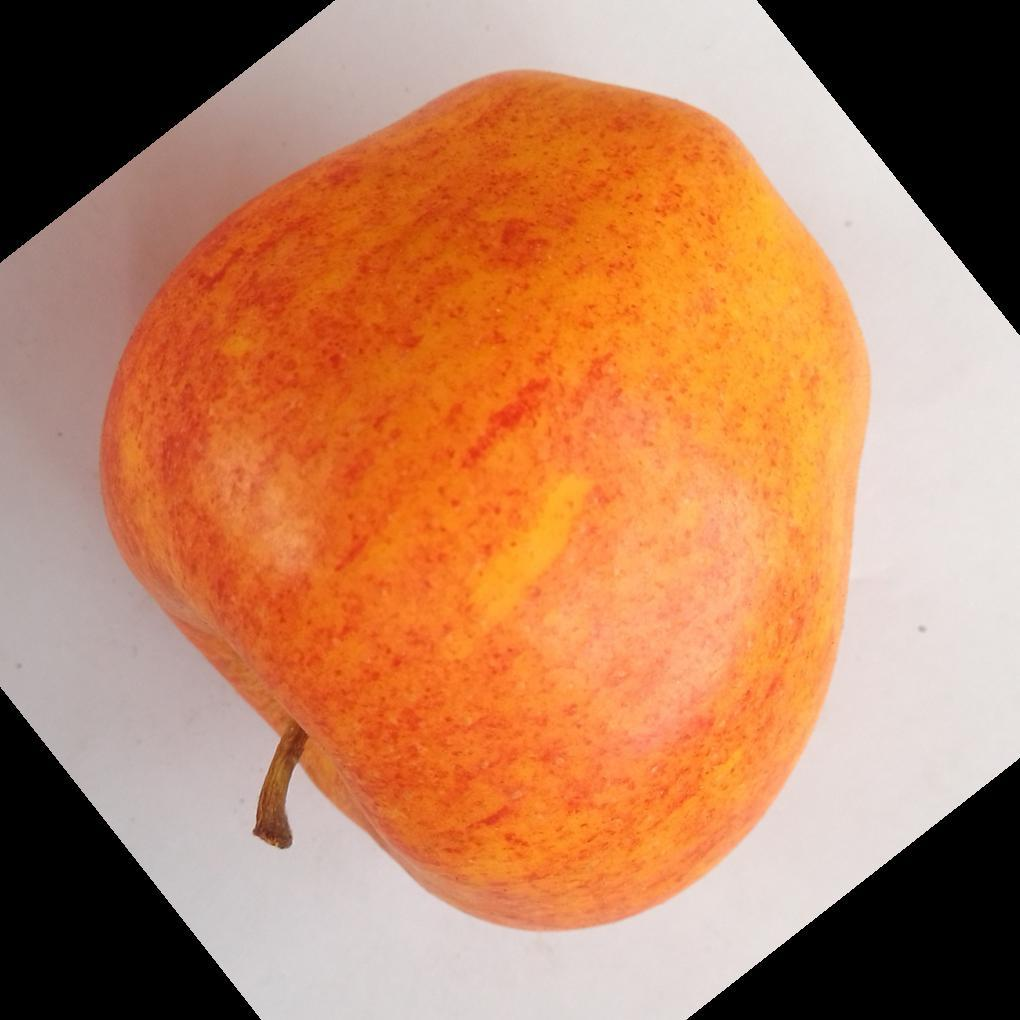FreshGuava: (96, 70, 874, 936)
